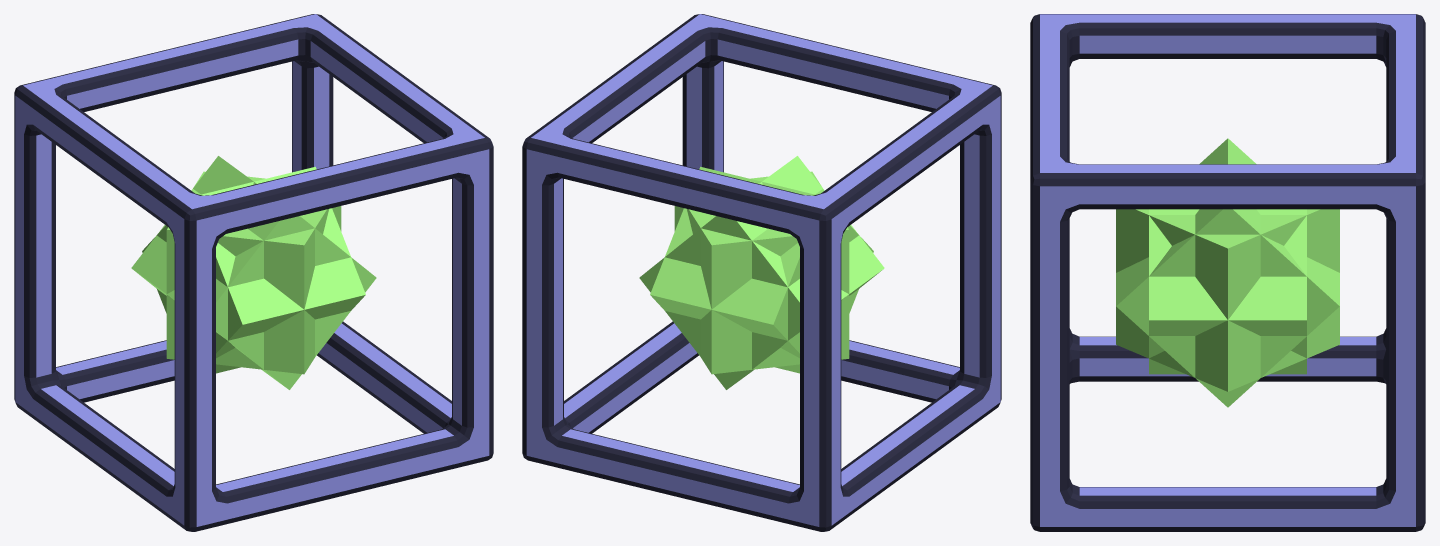
The model's file is TimeMachine.fbx.
3 views of the same model, side by side, from view 1: azimuth 30°, elevation 25°; view 2: azimuth 150°, elevation 25°; view 3: azimuth 270°, elevation 25° (orthographic). The views are drawn at different scales.
Visible parts, largest first — view 1: Frame, Cube.002, Cube, Cube.001; view 2: Frame, Cube.002, Cube, Cube.001; view 3: Frame, Cube.002, Cube.001, Cube.
Part boxes in pixels (x1=…): Frame: x1=14, y1=14, x2=493, y2=531; Cube.002: x1=166, y1=171, x2=341, y2=374; Cube: x1=131, y1=156, x2=376, y2=389; Cube.001: x1=142, y1=166, x2=365, y2=373; Frame: x1=522, y1=14, x2=1001, y2=531; Cube.002: x1=674, y1=171, x2=849, y2=374; Cube: x1=639, y1=156, x2=884, y2=389; Cube.001: x1=650, y1=166, x2=873, y2=373; Frame: x1=1030, y1=14, x2=1425, y2=531; Cube.002: x1=1116, y1=209, x2=1339, y2=391; Cube.001: x1=1116, y1=138, x2=1339, y2=407; Cube: x1=1149, y1=209, x2=1306, y2=374.
Size of the model in its own units: 200 by 200 by 200.
